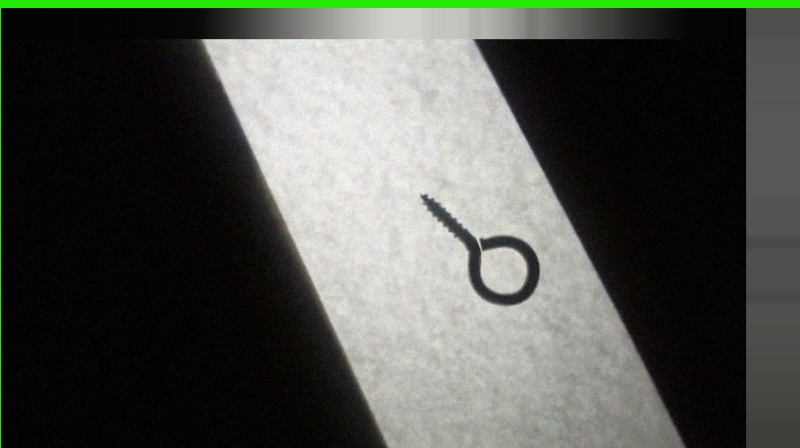O001: (417, 193, 543, 308)
